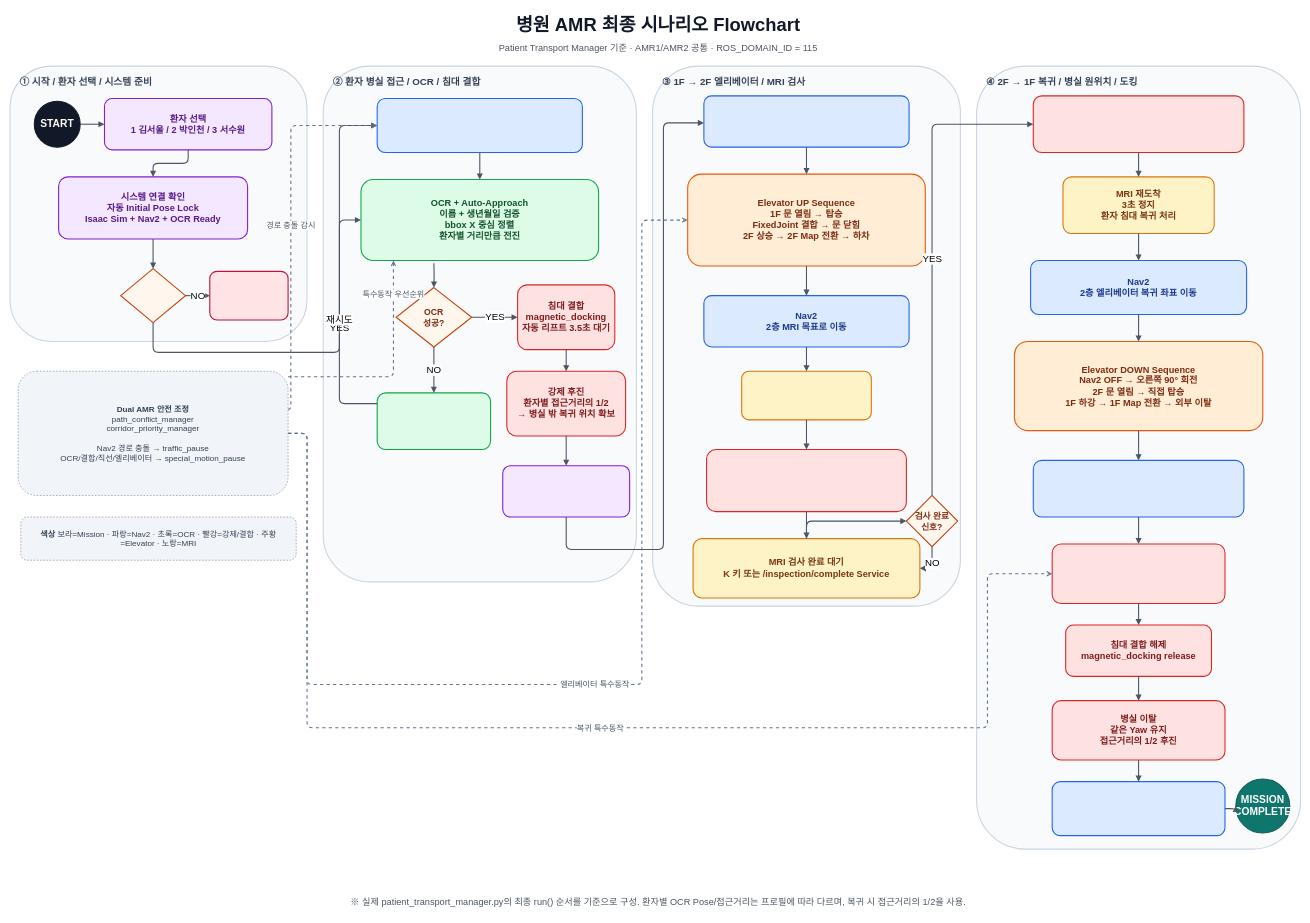
This 1310x923 diagram has some shape labels left out. Each missing label, with the centre of its shape:
"11m 강제 전진 검사 대기 위치 → MRI 재진입" belongs at pixel 1138 124.
"11m 강제 후진 들어온 방향 그대로 검사 대기 위치 이동" belongs at pixel 806 480.
"MRI 도착 3초 정지" belongs at pixel 806 395.
"Nav2 1층 엘리베이터 이동" belongs at pixel 806 121.
"Nav2 AMR 초기 도킹 Pose로 복귀" belongs at pixel 1138 808.
"Nav2 ON 저장해 둔 Room Return Staging으로 이동" belongs at pixel 1138 488.
"Nav2 선택 환자의 OCR Pose로 이동" belongs at pixel 479 125.
"OCR 재시도 김서울/박인천: 최대 2회 서수원: 최대 3회" belongs at pixel 433 421.
"Room Return Staging 저장 귀환 시 사용할 Pose + Yaw" belongs at pixel 566 491.
"강제 전진 접근거리의 1/2 → 침대 원래 결합 위치" belongs at pixel 1138 573.
"실행 중단 연결 상태 확인" belongs at pixel 248 295.
"준비 완료?" belongs at pixel 153 295.
